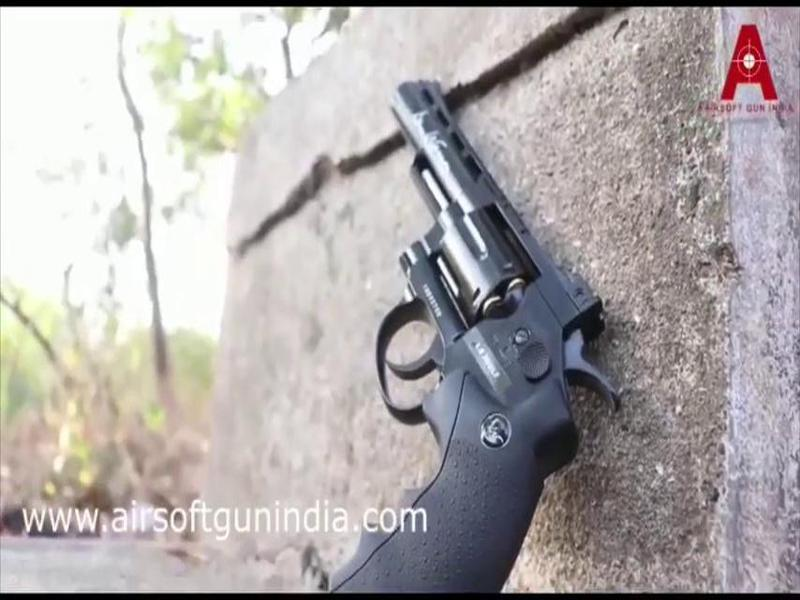Revolver: (288, 67, 655, 600)
